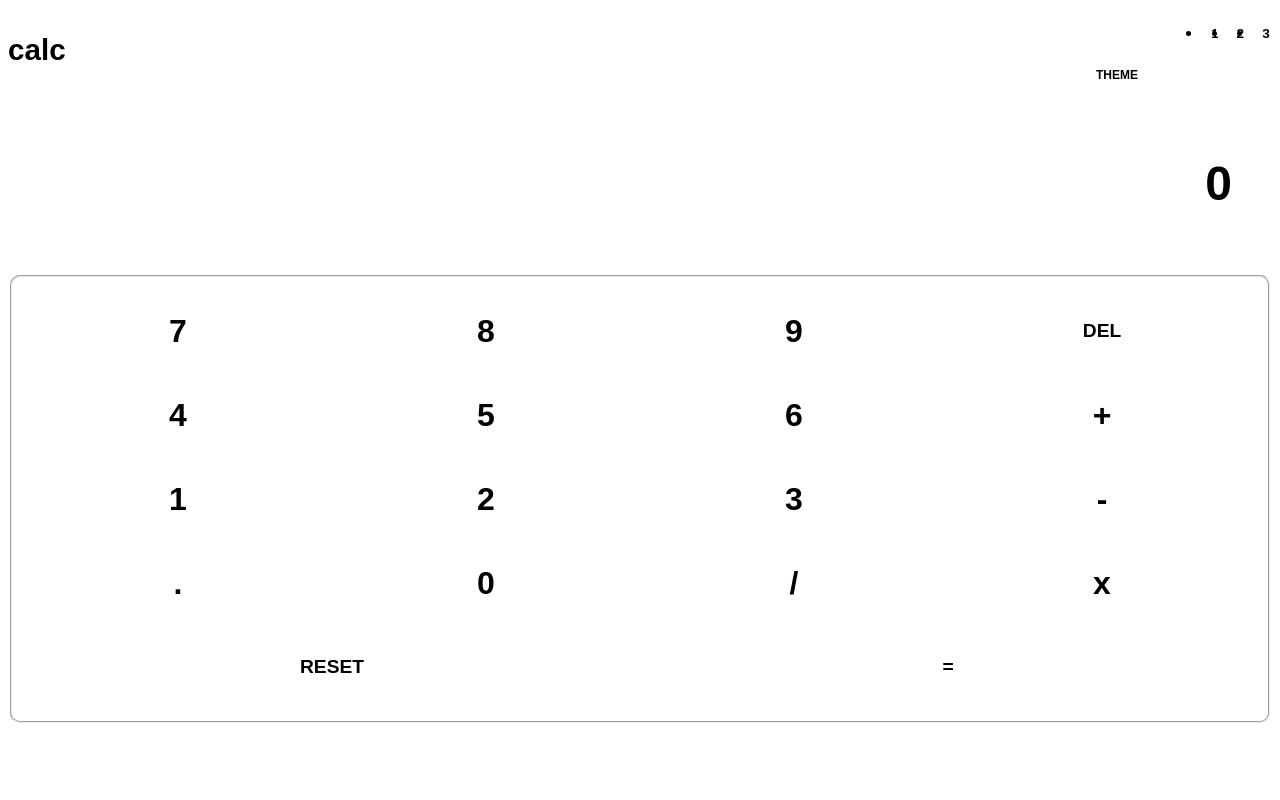
Test: Calculator › can perform basic multiplication
This screenshot has width=1280, height=800.
Click the button "2" at (486, 499), box [344, 469, 628, 529]
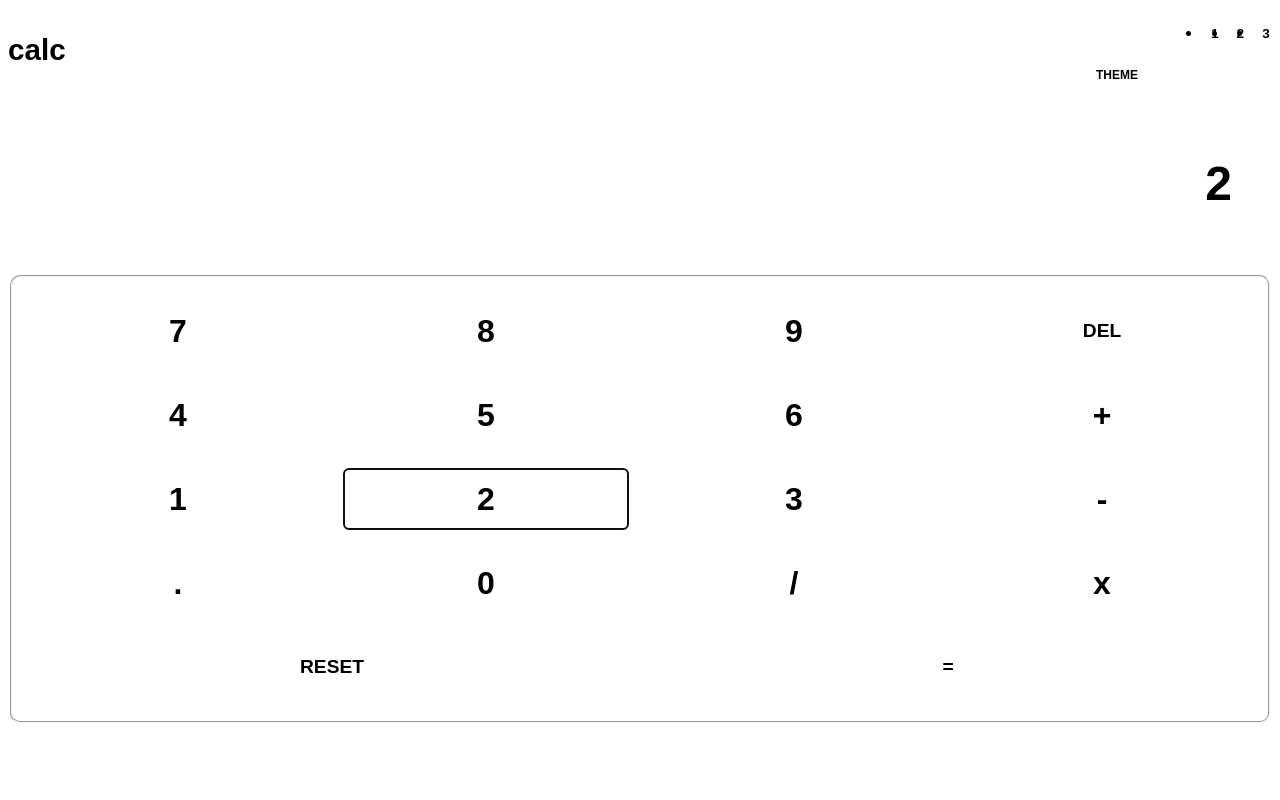
Click the button "x" at (1102, 583), box [960, 553, 1244, 613]
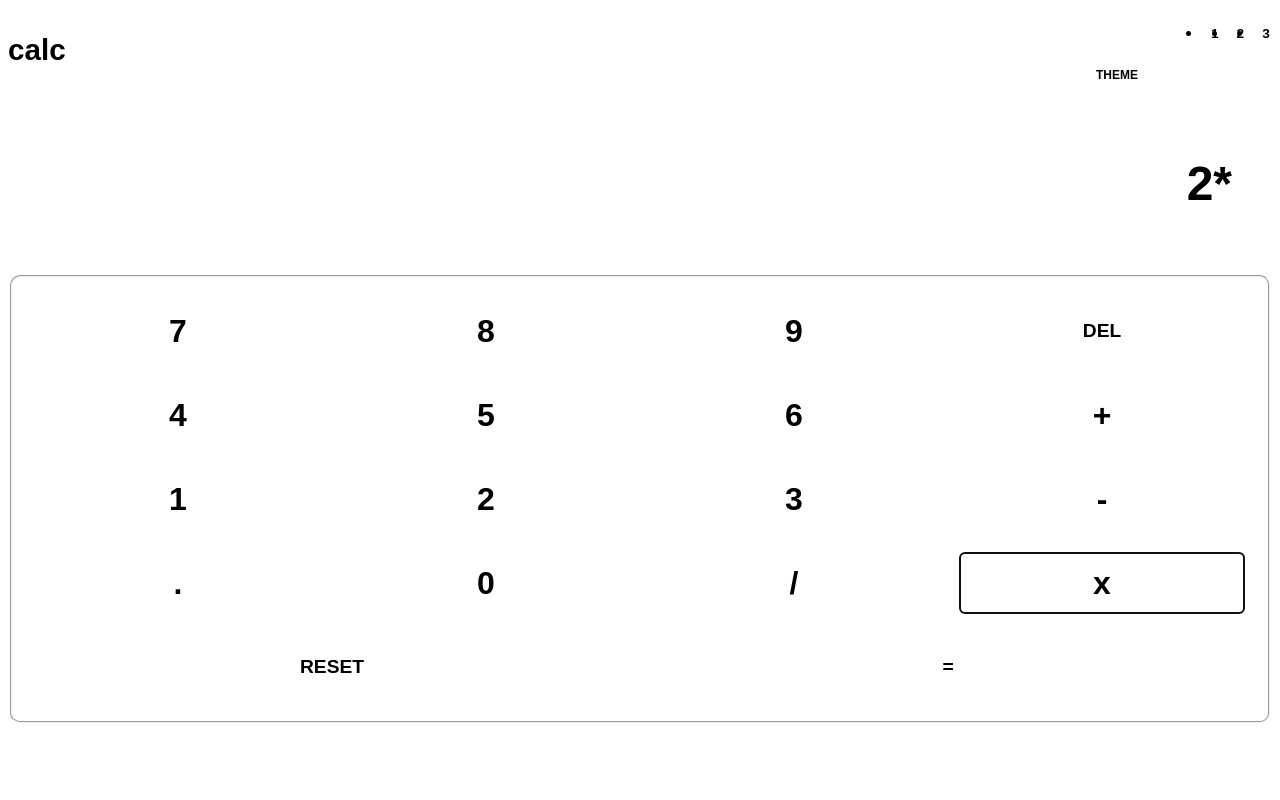
Click the button "2" at (486, 499), box [344, 469, 628, 529]
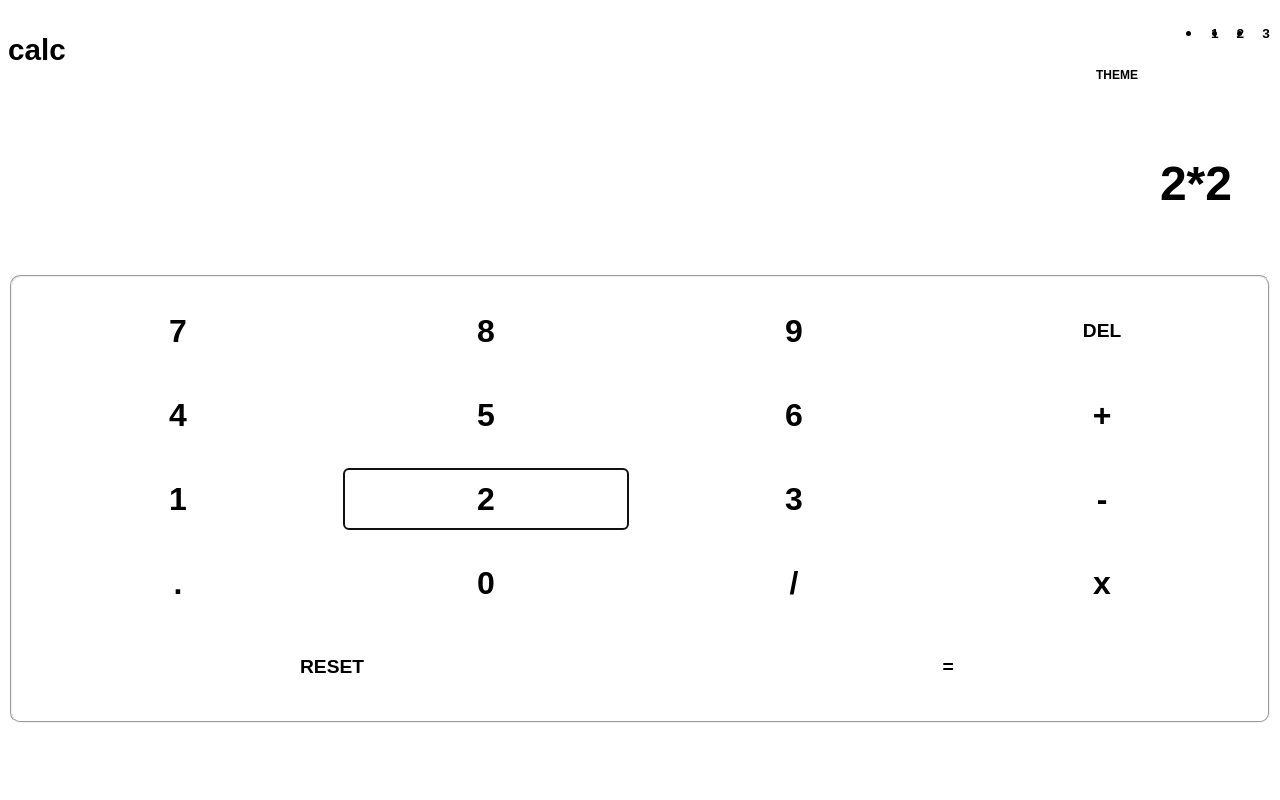
Click the button "=" at (948, 667), box [652, 637, 1244, 697]
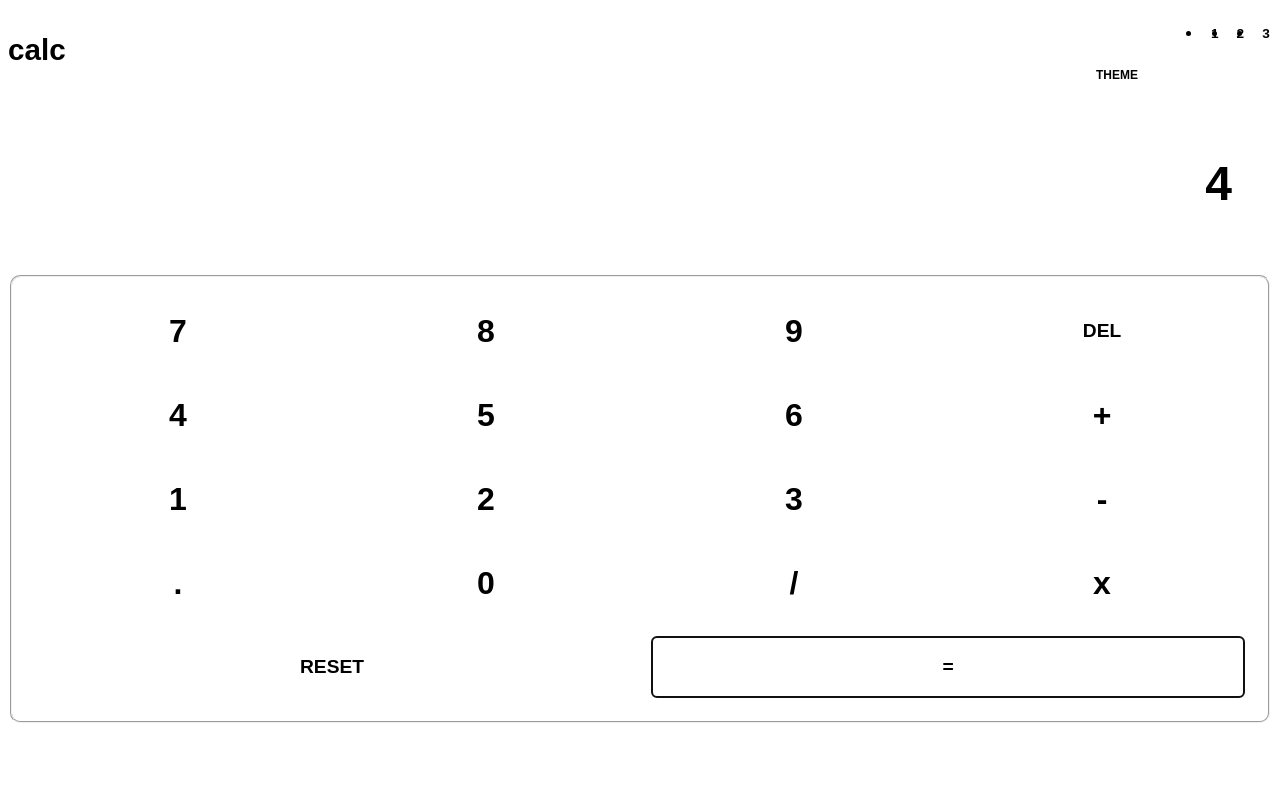
expect the text with test id "display" reads "4": met, box [1205, 157, 1232, 210]
